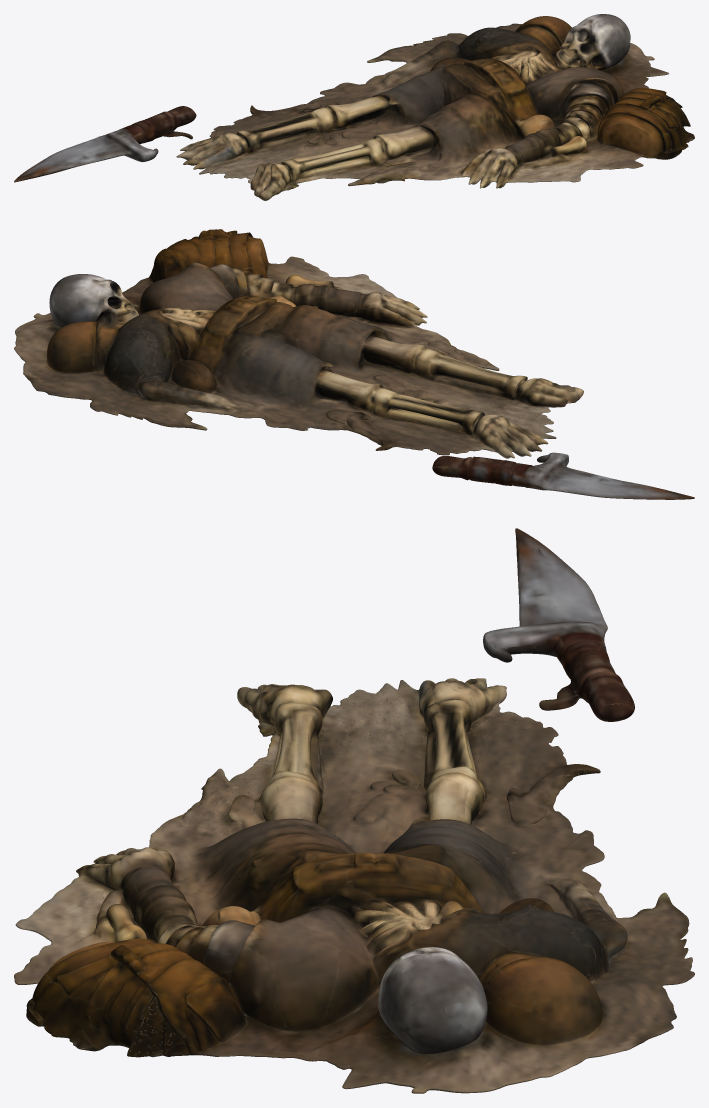
The model's file is skeleton_corpse.glb.
The picture shows the model from 3 angles, top to bottom: view 1: azimuth 30°, elevation 25°; view 2: azimuth 150°, elevation 25°; view 3: azimuth 270°, elevation 25°; orthographic projection. The views are drawn at different scales.
Visible parts, largest first — view 1: material; view 2: material; view 3: material.
Part boxes in pixels (<box>): material: <box>14,14,694,200</box>; material: <box>14,229,694,499</box>; material: <box>14,528,694,1093</box>.
Bounding box in the file's own units: 1.16 × 0.0975 × 0.6061.
1 material, 1 textured.
